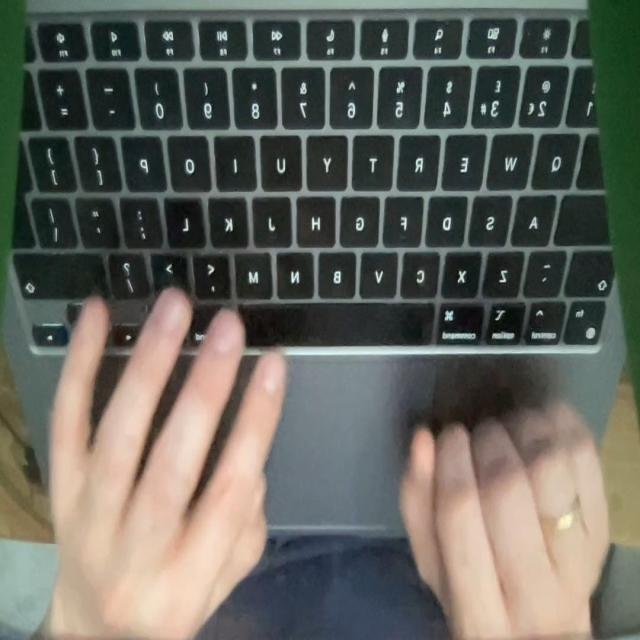keyboard-with-hands: (1, 0, 629, 545)
